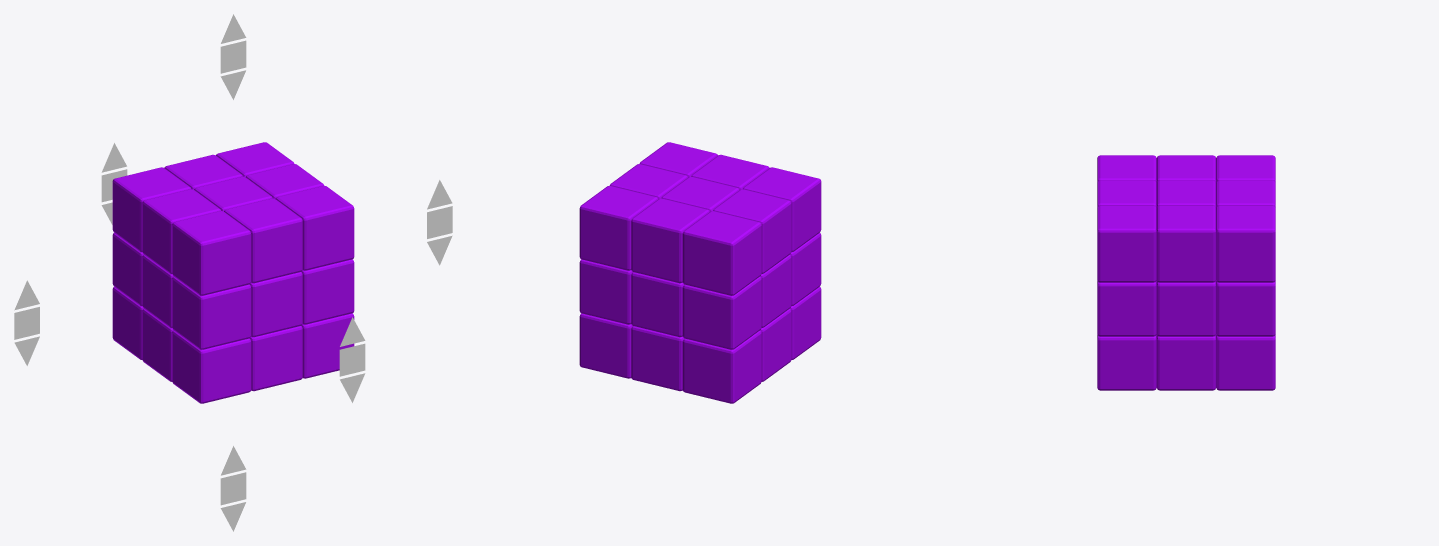
Rendered from Ordiks_Cube_Face_Mats_by_vGroup_03_temp.glb.
3 views of the same model, side by side, from view 1: azimuth 30°, elevation 25°; view 2: azimuth 150°, elevation 25°; view 3: azimuth 270°, elevation 25° (orthographic).
Visible parts, largest first — view 1: -1,1,1, -1,-1,1, -1,0,1, 1,1,1, 0,1,1, -1,1-1, -1,1,0, 1,0,1, 0,-1,1, 0,0,1, 1,-1,1, -1,0,0 (+12 smaller); view 2: -1,1-1, -1,-1,-1, -1,0,-1, 1,1,-1, 0,1,-1, -1,1,1, -1,1,0, 1,-1,-1, 1,0,-1, 0,-1,-1, 0,0,-1, -1,0,0 (+7 smaller); view 3: 1,1,0, 1,1,1, 1,1,-1, 1,0,0, 1,-1,0, 1,0,1, 1,0,-1, 1,-1,1, 1,-1,-1, 0,1,0, -1,1,0, -1,1,1 (+3 smaller).
Part boxes in pixels (bbox=[...]): -1,1,1: bbox=[172, 211, 251, 295]; -1,-1,1: bbox=[172, 330, 251, 403]; -1,0,1: bbox=[172, 276, 251, 349]; 1,1,1: bbox=[275, 185, 354, 270]; 0,1,1: bbox=[224, 198, 302, 283]; -1,1-1: bbox=[112, 167, 190, 252]; -1,1,0: bbox=[142, 189, 220, 273]; 1,0,1: bbox=[301, 259, 354, 324]; 0,-1,1: bbox=[249, 326, 302, 391]; 0,0,1: bbox=[250, 272, 302, 337]; 1,-1,1: bbox=[301, 313, 354, 378]; -1,0,0: bbox=[142, 254, 173, 327]; -1,1-1: bbox=[682, 211, 761, 295]; -1,-1,-1: bbox=[682, 330, 761, 403]; -1,0,-1: bbox=[682, 276, 761, 349]; 1,1,-1: bbox=[579, 185, 658, 270]; 0,1,-1: bbox=[631, 198, 709, 283]; -1,1,1: bbox=[743, 167, 821, 252]; -1,1,0: bbox=[713, 189, 791, 273]; 1,-1,-1: bbox=[579, 313, 632, 378]; 1,0,-1: bbox=[579, 259, 632, 324]; 0,-1,-1: bbox=[631, 326, 684, 391]; 0,0,-1: bbox=[631, 272, 683, 337]; -1,0,0: bbox=[760, 254, 791, 327]; 1,1,0: bbox=[1156, 205, 1216, 282]; 1,1,1: bbox=[1097, 205, 1156, 282]; 1,1,-1: bbox=[1216, 205, 1275, 282]; 1,0,0: bbox=[1156, 280, 1216, 336]; 1,-1,0: bbox=[1156, 334, 1216, 390]; 1,0,1: bbox=[1097, 280, 1156, 336]; 1,0,-1: bbox=[1216, 280, 1275, 336]; 1,-1,1: bbox=[1097, 334, 1156, 390]; 1,-1,-1: bbox=[1216, 334, 1275, 390]; 0,1,0: bbox=[1156, 180, 1216, 207]; -1,1,0: bbox=[1156, 155, 1216, 182]; -1,1,1: bbox=[1097, 155, 1156, 182].
Size of the model in its own units: 8.5 by 9.6 by 8.
